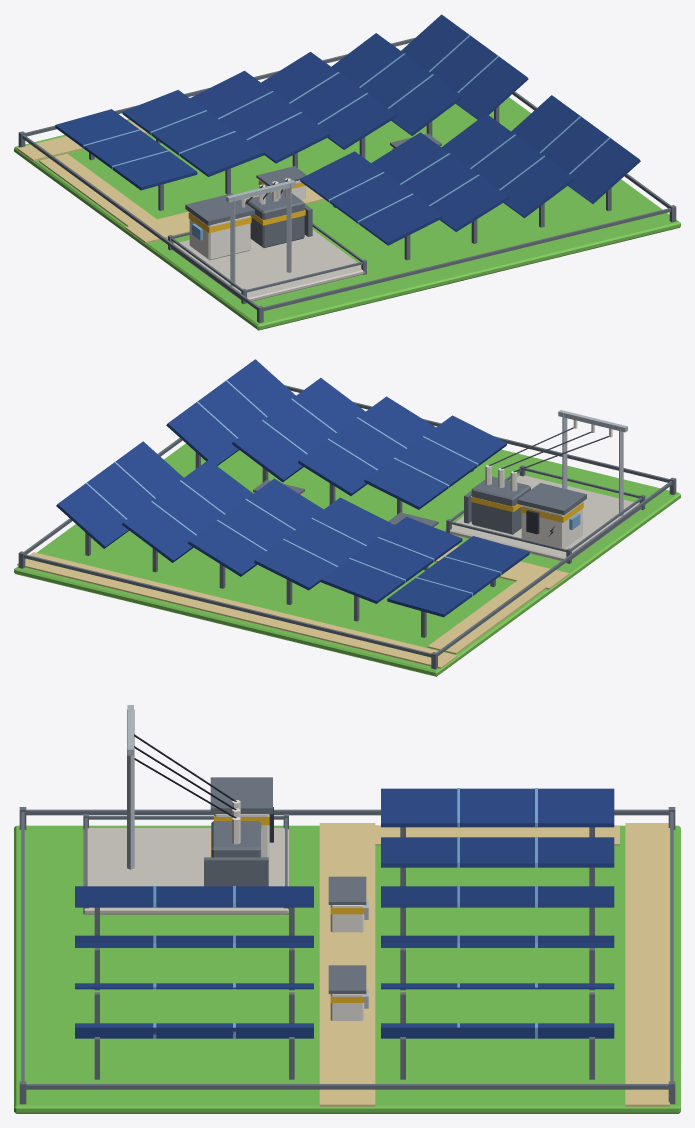
File: solar_tracker.glb
3 views of the same model, one above another, from view 1: azimuth 30°, elevation 25°; view 2: azimuth 150°, elevation 25°; view 3: azimuth 270°, elevation 25° (orthographic). The views are drawn at different scales.
Parts seen in each view (by area): view 1: corpo; view 2: corpo; view 3: corpo.
Part boxes in pixels (x1=…): corpo: x1=14, y1=14, x2=680, y2=330; corpo: x1=14, y1=359, x2=680, y2=676; corpo: x1=14, y1=705, x2=680, y2=1113.
Size of the model in its own units: 6 by 1.35 by 6.
